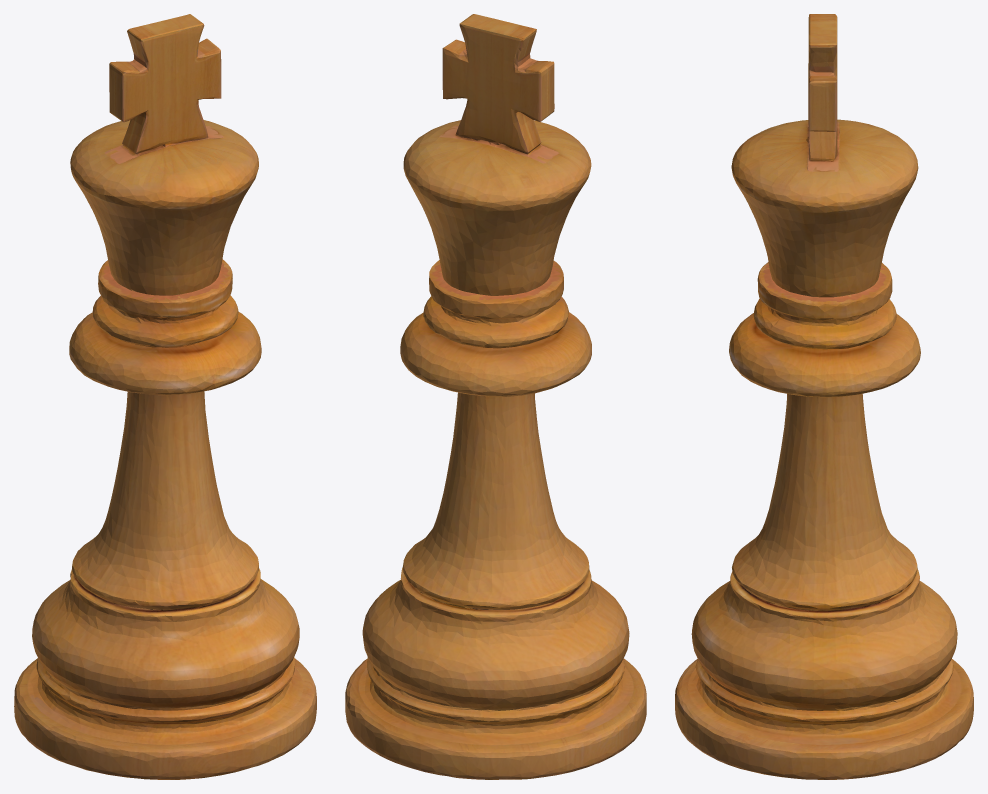
Rendered from Faz_me_uma_peça_de_x_0708150648_texture.fbx.
The picture shows the model from 3 angles, left to right: view 1: azimuth 30°, elevation 25°; view 2: azimuth 150°, elevation 25°; view 3: azimuth 270°, elevation 25°; orthographic projection.
Visible parts, largest first — view 1: temp; view 2: temp; view 3: temp.
Boxes of the visible parts, x1,y1,x2,y2 form: temp: [14, 14, 316, 779]; temp: [345, 14, 646, 779]; temp: [675, 14, 973, 779].
Size of the model in its own units: 78.92 by 200 by 78.57.
1 material, 1 textured.
